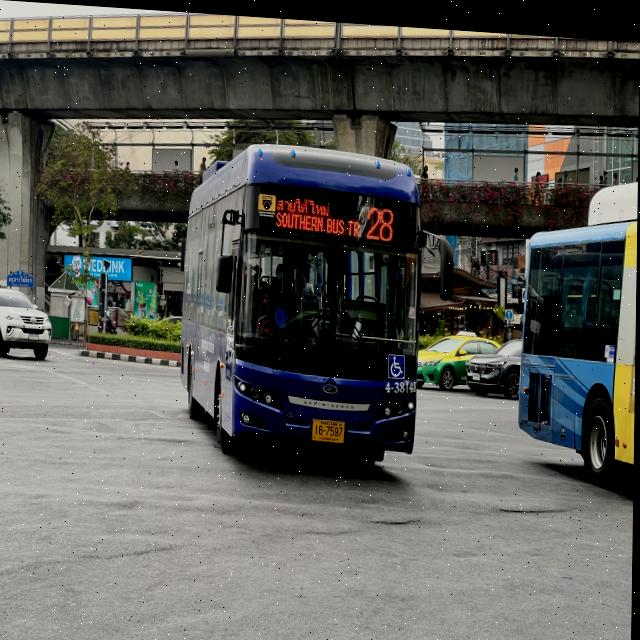Bus-Line-Number: (364, 197, 397, 240)
Destination-Sign-Normal: (271, 183, 363, 238)
TSB-Bus: (179, 135, 424, 465)
